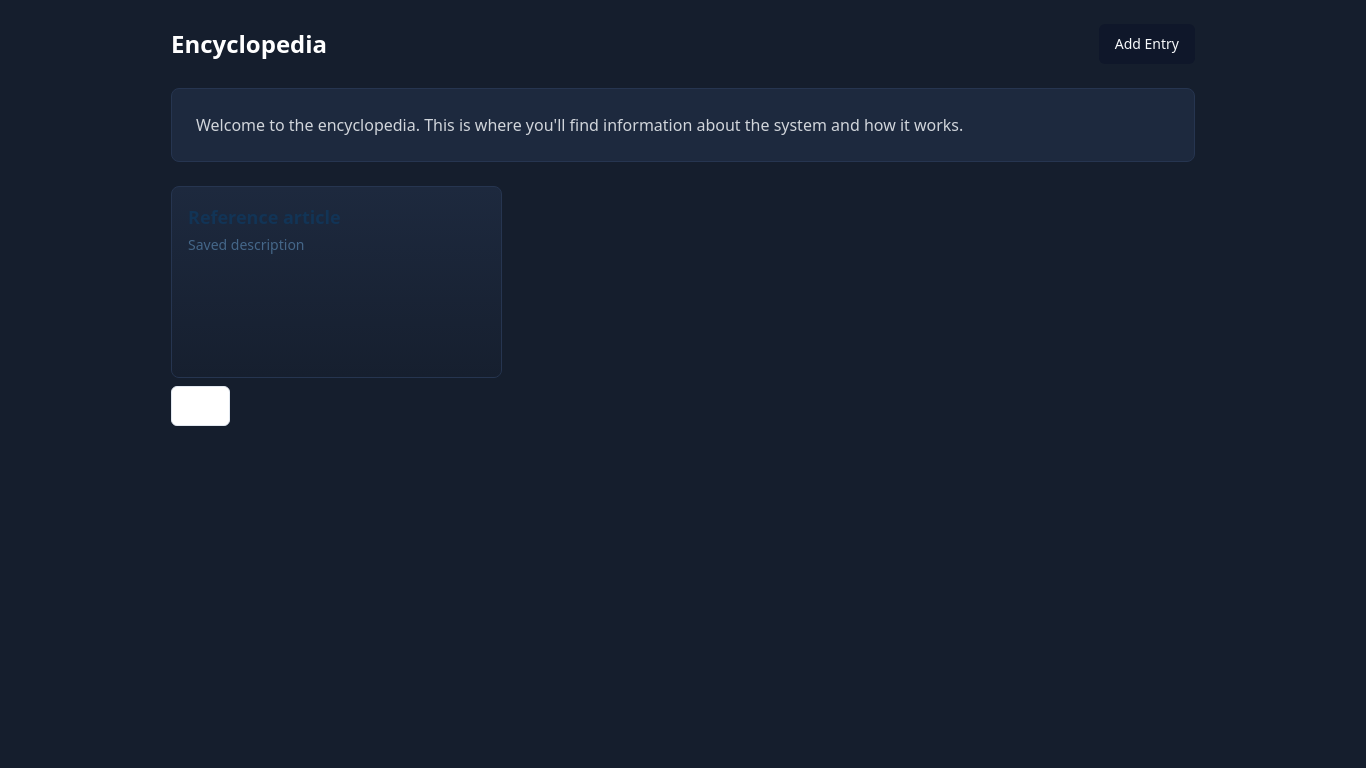
it: real Encyclopedia reader and editorial consumers › preserves original body/image/metadata on title-only edits and exact zero controls
The width and height of the screenshot is (1366, 768).
Click the button with aria-label "Edit Reference article" at {"x": 201, "y": 406}, box [171,386,230,426]
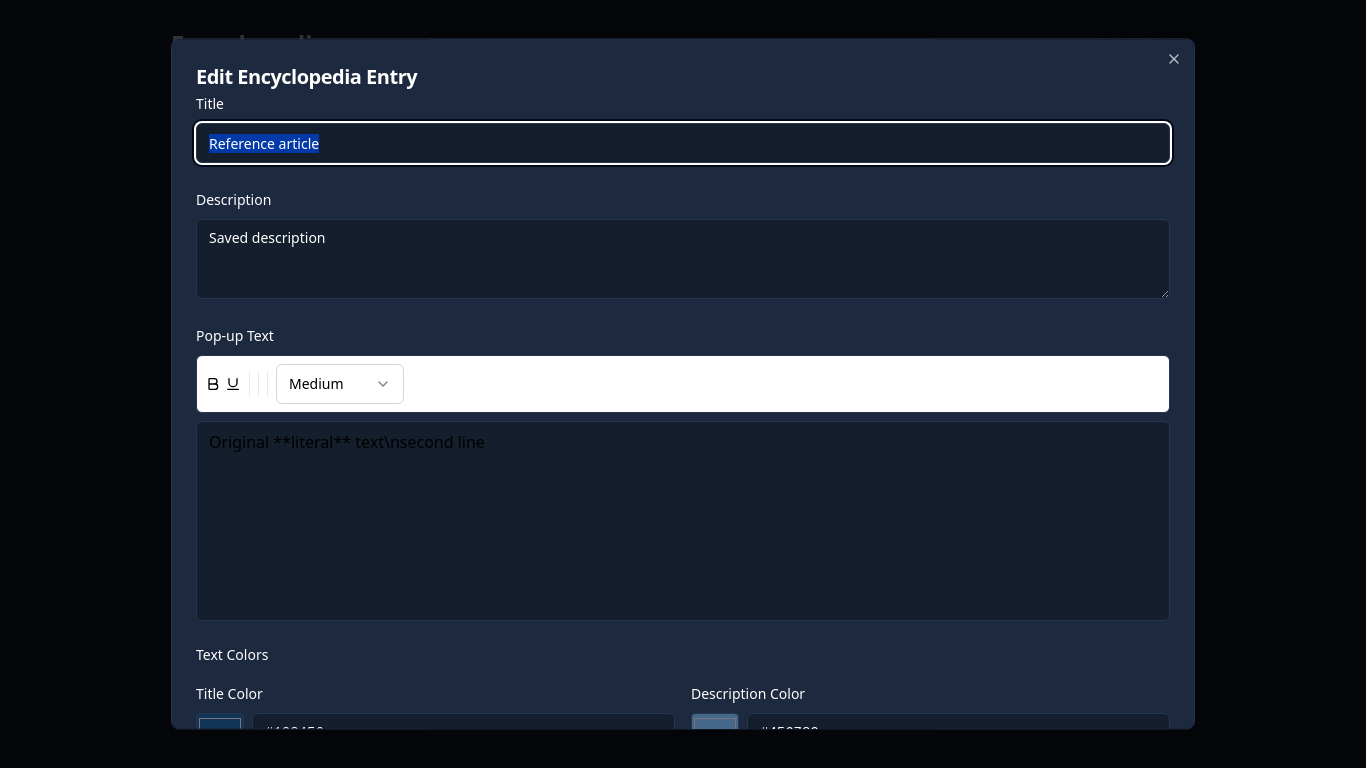
Check: the field named "Pop-up Text" reads "Original **literal** text\\nsecond line", box [209,431,485,453]
Replace the text in the field labelled "Title" with "New title" at {"x": 683, "y": 143}, box [196,123,1170,163]
(page scrolled)
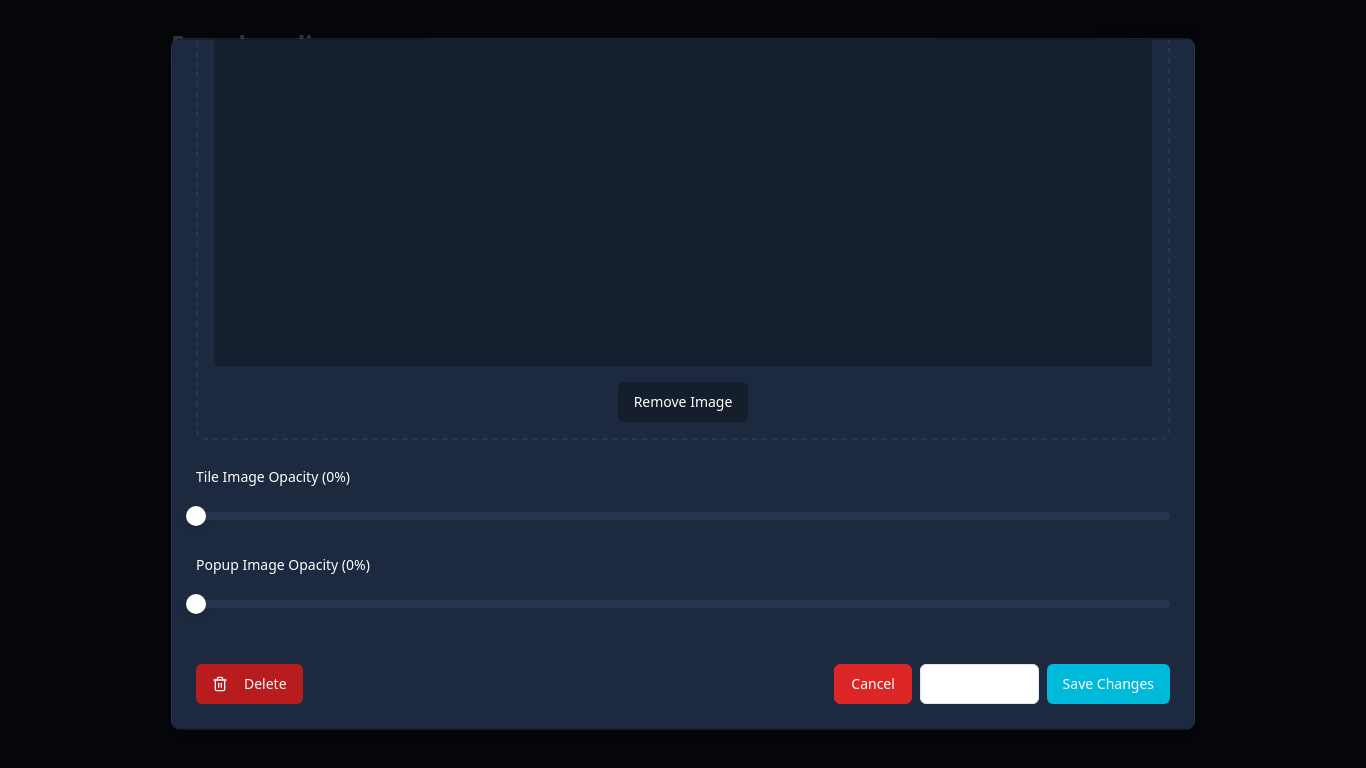
Click the button "Save Changes" at {"x": 1108, "y": 684}, box [1047,664,1170,704]
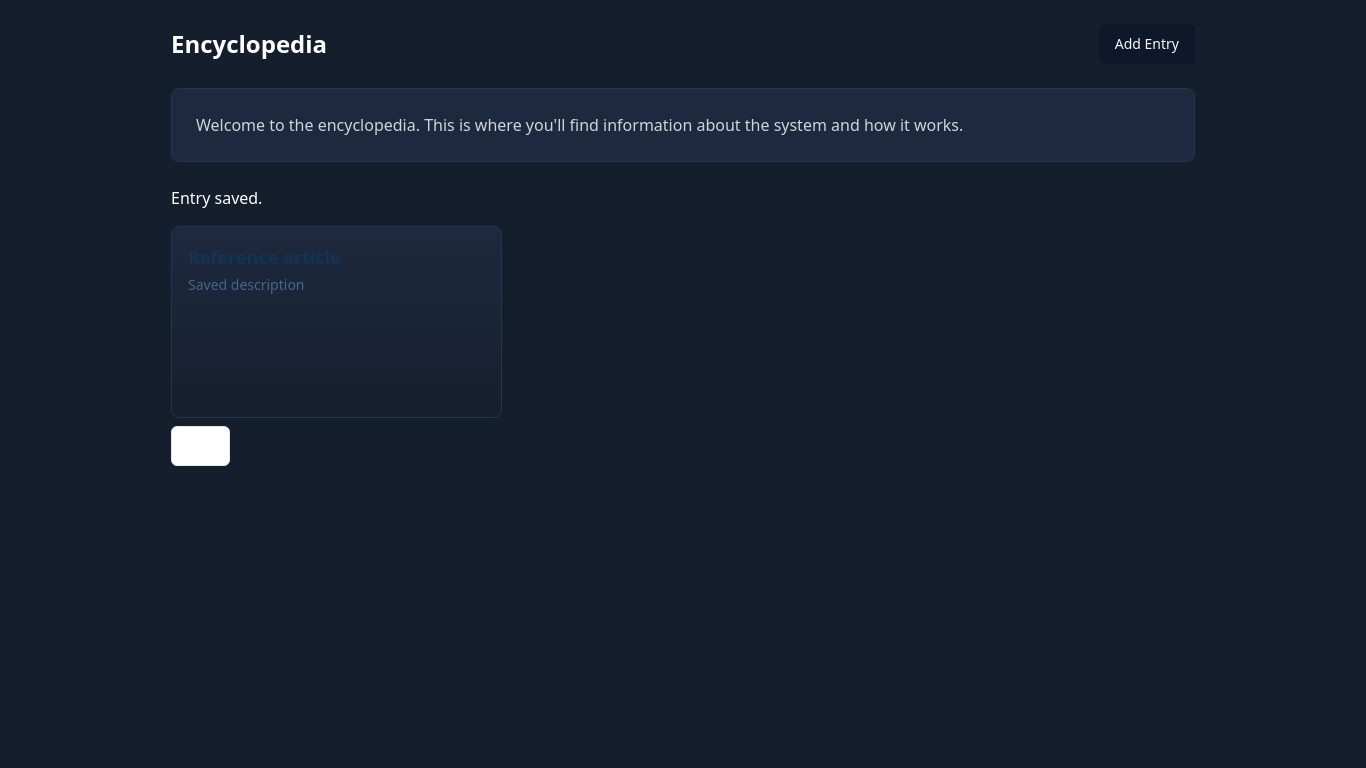
Check: the dialog is gone
